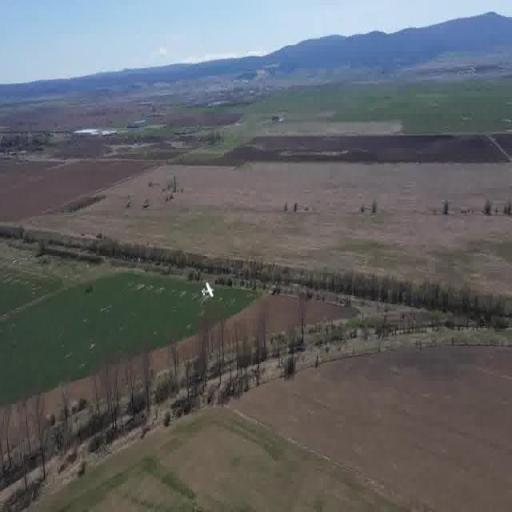uav: (198, 278, 218, 304)
